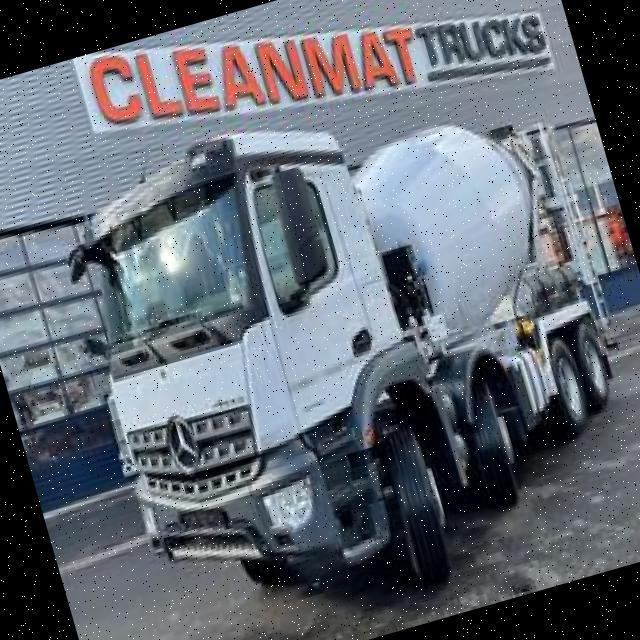Mixer Truck: (39, 40, 640, 640)
